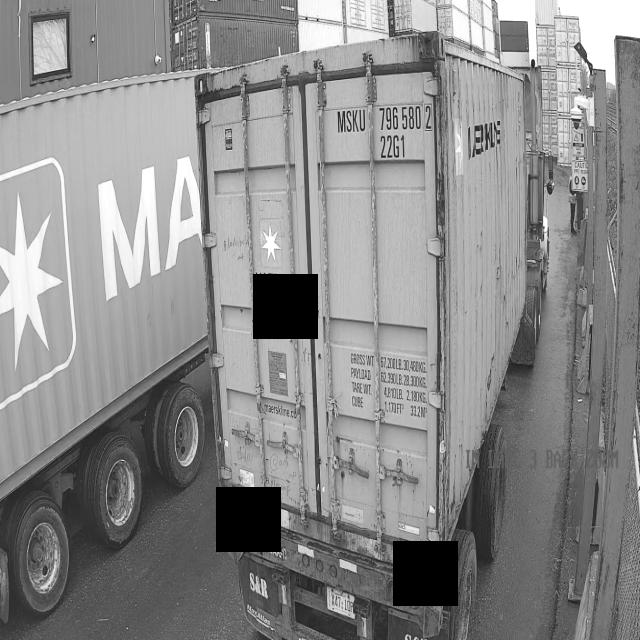container_company_logo: (254, 218, 289, 293)
container_number: (336, 106, 434, 163)
license_plate: (323, 589, 359, 619)
other_container_info: (348, 345, 428, 422)
truck_with_container: (196, 32, 554, 640), (0, 73, 208, 619)
